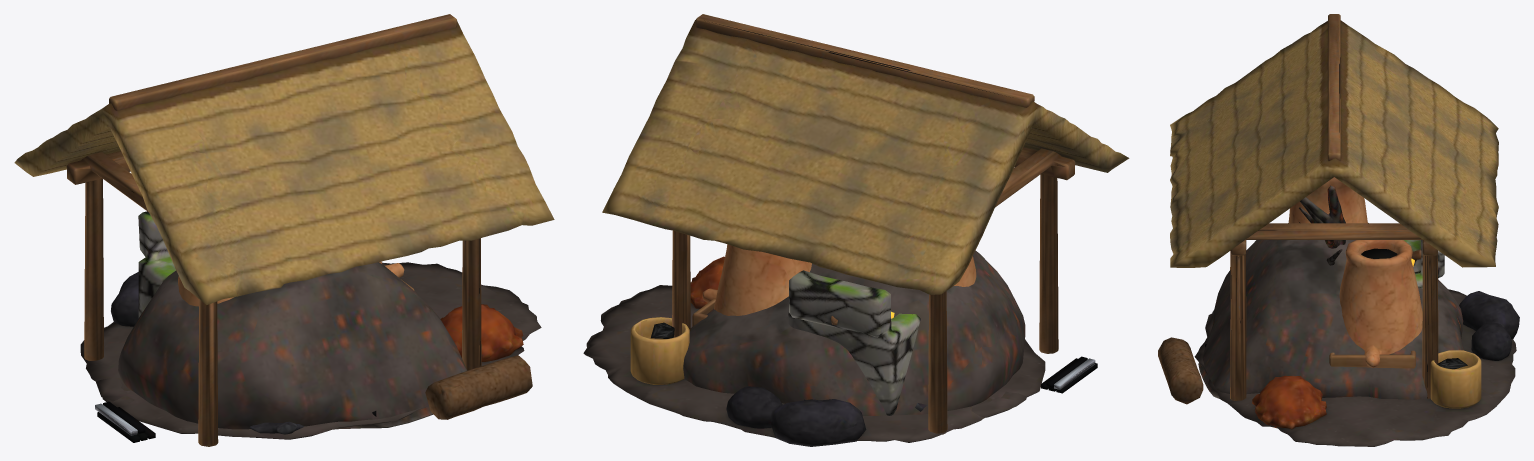
File: iron_decor_forge.glb
The picture shows the model from 3 angles, left to right: view 1: azimuth 30°, elevation 25°; view 2: azimuth 150°, elevation 25°; view 3: azimuth 270°, elevation 25°; orthographic projection. The views are drawn at different scales.
Visible parts, largest first — view 1: Smithy, Rock_C, Bloomery; view 2: Smithy, Rock_C, Bloomery; view 3: Smithy, Bloomery, Rock_C, Dead_A.
Boxes of the visible parts, x1,y1,x2,y2 form: Smithy: (14,14,554,446); Rock_C: (118,262,467,437); Bloomery: (80,261,541,434); Smithy: (602,14,1129,434); Rock_C: (683,250,1025,415); Bloomery: (583,244,1026,446); Smithy: (1158,14,1498,404); Bloomery: (1194,177,1519,446); Rock_C: (1198,223,1463,399); Dead_A: (1299,185,1345,265).
Size of the model in its own units: 3.36 by 2.39 by 2.83.
2 materials, 1 textured.
